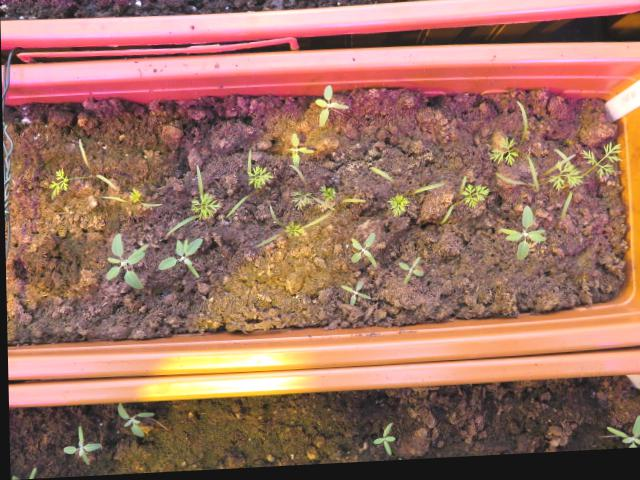weed: (494, 203, 546, 270), (99, 226, 147, 294), (153, 236, 202, 284), (57, 419, 101, 468), (311, 82, 351, 133), (113, 401, 154, 440), (345, 228, 376, 273), (334, 276, 371, 312), (393, 256, 423, 292), (367, 421, 394, 461)
